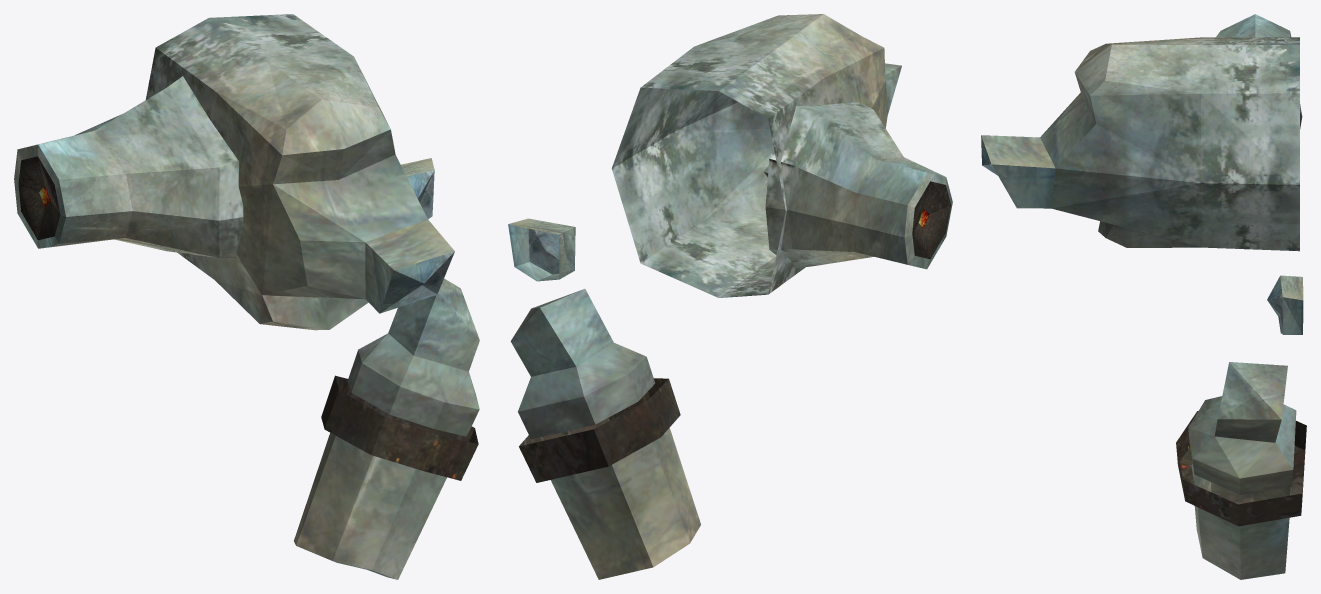
File: zhanchang_fuben_195_weiqiang_02.obj
The picture shows the model from 3 angles, left to right: view 1: azimuth 30°, elevation 25°; view 2: azimuth 150°, elevation 25°; view 3: azimuth 270°, elevation 25°; orthographic projection. The views are drawn at different scales.
Parts seen in each view (by area): view 1: zhanchang_fuben_195_weiqiang_02; view 2: zhanchang_fuben_195_weiqiang_02; view 3: zhanchang_fuben_195_weiqiang_02.
Part boxes in pixels (box(x1,y1,x2,y2)): zhanchang_fuben_195_weiqiang_02: box(14, 14, 479, 579); zhanchang_fuben_195_weiqiang_02: box(508, 14, 952, 579); zhanchang_fuben_195_weiqiang_02: box(981, 14, 1306, 579).
Bounding box in the file's own units: 105 × 131 × 81.64.
1 material, 1 textured.
